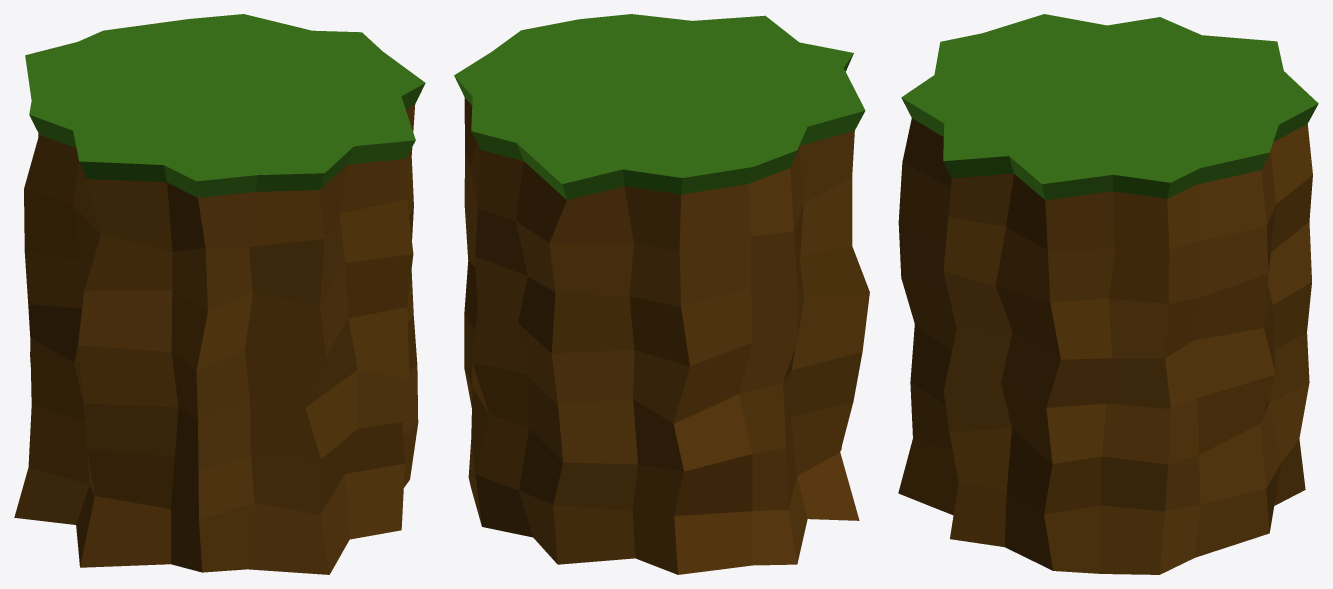
Rendered from cliff.fbx.
3 renders of one model, left to right at view 1: azimuth 30°, elevation 25°; view 2: azimuth 150°, elevation 25°; view 3: azimuth 270°, elevation 25°, orthographic.
Visible parts, largest first — view 1: Circle; view 2: Circle; view 3: Circle.
Part boxes in pixels (x1=…): Circle: x1=14, y1=14, x2=425, y2=574; Circle: x1=454, y1=14, x2=869, y2=574; Circle: x1=898, y1=14, x2=1318, y2=574.
Bounding box in the file's own units: 202 × 230 × 214.
